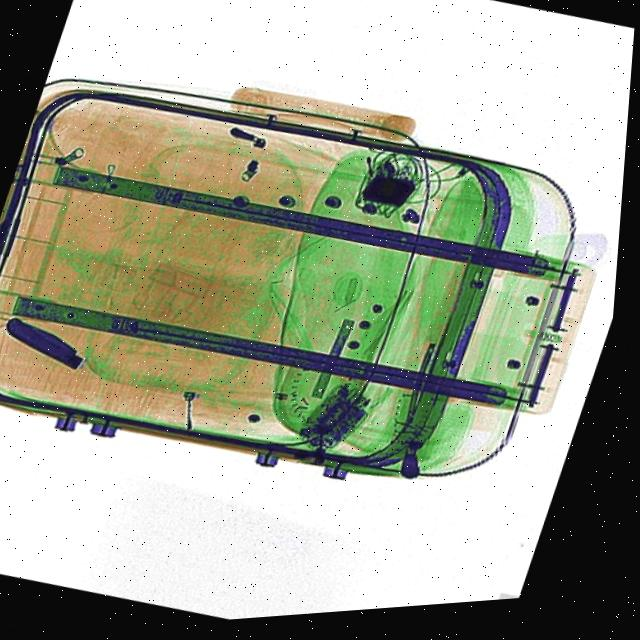knife: (0, 305, 97, 379)
